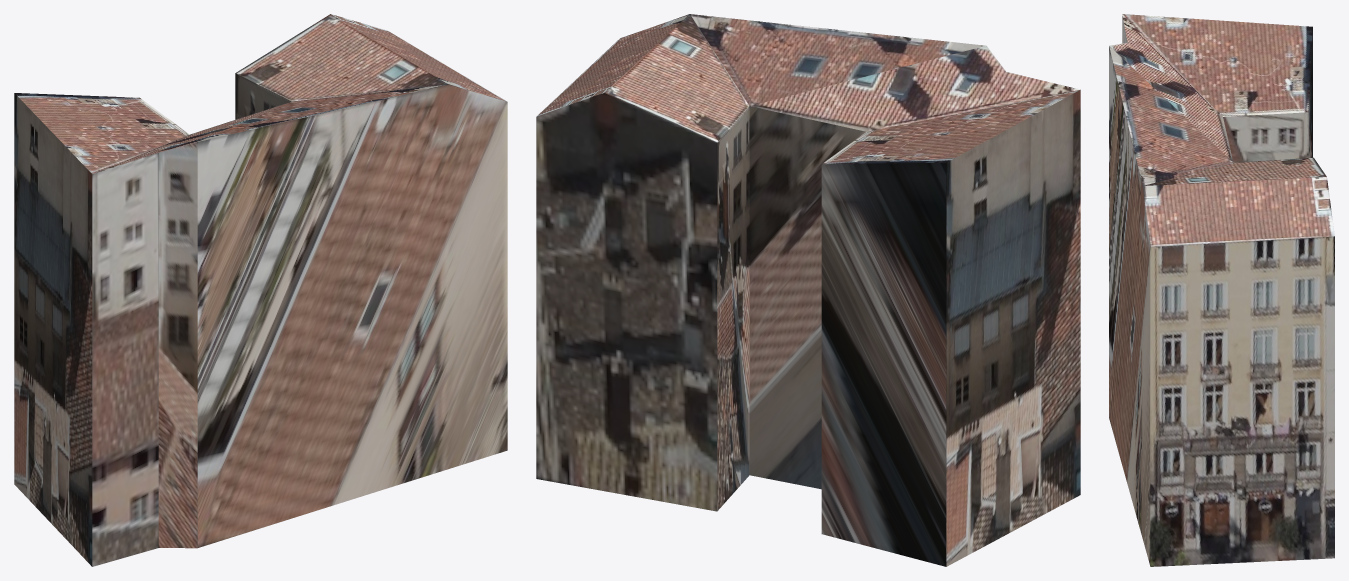
3 views of the same model, side by side, from view 1: azimuth 30°, elevation 25°; view 2: azimuth 150°, elevation 25°; view 3: azimuth 270°, elevation 25° (orthographic). The views are drawn at different scales.
Visible parts, largest first — view 1: Z_UP; view 2: Z_UP; view 3: Z_UP.
Boxes of the visible parts, x1,y1,x2,y2 form: Z_UP: [14, 14, 507, 566]; Z_UP: [536, 14, 1080, 566]; Z_UP: [1109, 14, 1334, 566].
Bounding box in the file's own units: 28.01 × 25.23 × 13.86.
2 materials, 1 textured.
